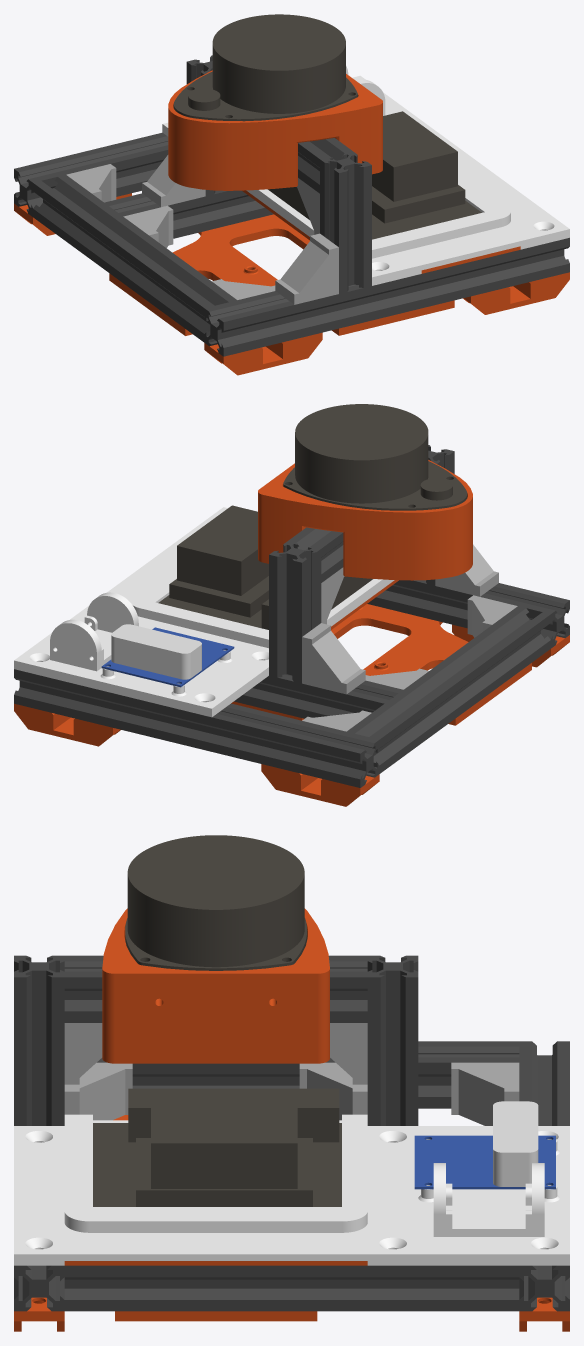
3 renders of one model, top to bottom at view 1: azimuth 30°, elevation 25°; view 2: azimuth 150°, elevation 25°; view 3: azimuth 270°, elevation 25°, orthographic. The views are drawn at different scales.
Visible parts, largest first — view 1: V-Slot 2020 Extrude - Configurable (×7), Part 2, Part 1, jetson_top, jetson_simple, 2020_45deg (×6), base_panel, motor_mount (×2), jetson_base; view 2: V-Slot 2020 Extrude - Configurable (×7), jetson_top, Part 2, Part 1, jetson_simple, 2020_45deg (×6), base_panel, motor_mount (×3), u2d2_hub, u2d2_board; view 3: V-Slot 2020 Extrude - Configurable (×7), jetson_top, jetson_simple, Part 1, Part 2, 2020_45deg (×5), u2d2_board, u2d2_hub, base_panel, motor_mount (×2), jetson_base.
Part boxes in pixels (x1,y1,x2,y2): V-Slot 2020 Extrude - Configurable (×7): [14, 55, 569, 356]; Part 2: [173, 14, 357, 121]; Part 1: [168, 70, 382, 190]; jetson_top: [162, 66, 569, 285]; jetson_simple: [268, 111, 481, 239]; 2020_45deg (×6): [66, 155, 338, 304]; base_panel: [109, 214, 454, 335]; motor_mount (×2): [204, 272, 569, 375]; jetson_base: [242, 190, 520, 273]; V-Slot 2020 Extrude - Configurable (×7): [14, 445, 569, 787]; jetson_top: [14, 507, 394, 717]; Part 2: [283, 404, 467, 510]; Part 1: [258, 460, 472, 580]; jetson_simple: [158, 505, 372, 629]; 2020_45deg (×6): [302, 544, 517, 731]; base_panel: [231, 604, 531, 725]; motor_mount (×3): [14, 624, 569, 806]; u2d2_hub: [111, 624, 201, 679]; u2d2_board: [101, 627, 234, 687]; V-Slot 2020 Extrude - Configurable (×7): [14, 955, 569, 1311]; jetson_top: [14, 1114, 569, 1265]; jetson_simple: [93, 1088, 341, 1206]; Part 1: [102, 908, 329, 1063]; Part 2: [125, 835, 307, 970]; 2020_45deg (×5): [64, 1023, 519, 1125]; u2d2_board: [414, 1135, 555, 1189]; u2d2_hub: [493, 1101, 538, 1186]; base_panel: [113, 1115, 317, 1321]; motor_mount (×2): [14, 1297, 569, 1331]; jetson_base: [64, 1261, 367, 1265].
Bounding box in the file's own units: 0.21 × 0.22 × 0.1439.
